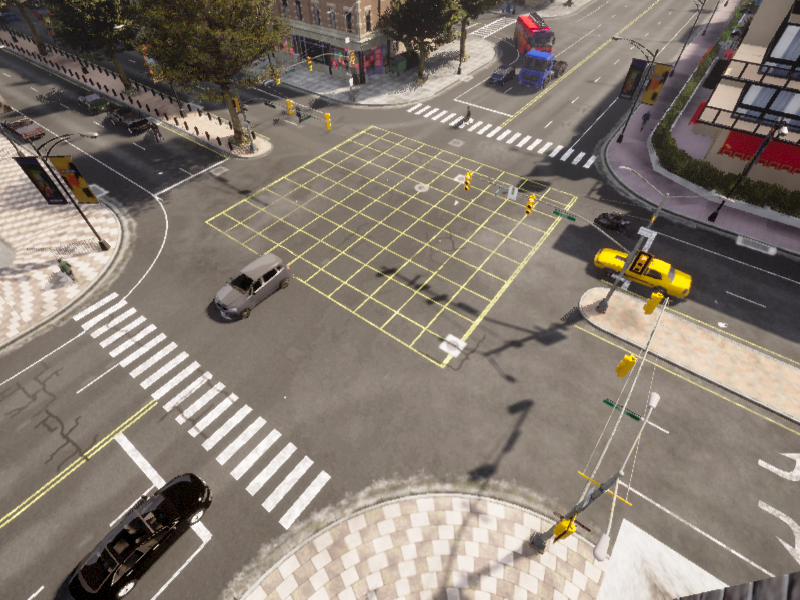vehicle: (201, 243, 297, 325), (589, 235, 700, 304), (100, 99, 157, 138), (590, 203, 635, 239), (144, 118, 171, 145)
